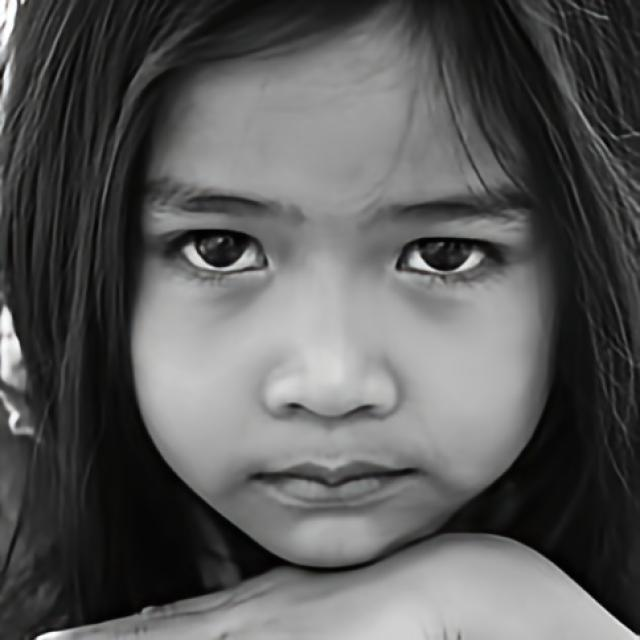sad: (123, 1, 565, 573)
